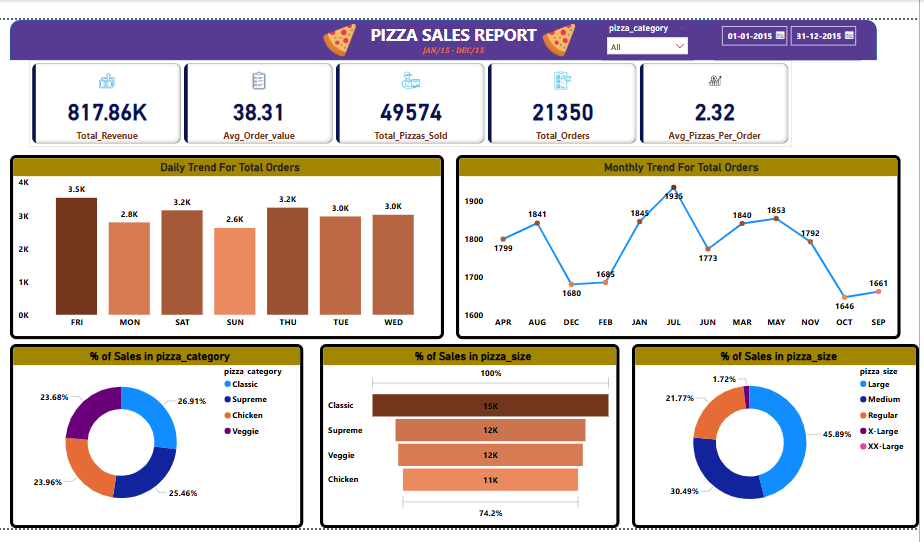

This screenshot's page, from the dashboard's own definition file:
{"tool":"powerbi","page":{"name":"Home Page","canvas":[1500,820],"ordinal":0},"visuals":[{"type":"cardVisual","fields":{"Data":["pizza_sales.Total_Revenue","pizza_sales.Avg_Order_value","pizza_sales.Total_Pizzas_Sold","pizza_sales.Total_Orders","pizza_sales.Avg_Pizzas_Per_Order"]},"box":[65,65,1230,140],"z":0},{"type":"shape","box":[33.3,0,1398.3,65],"z":1000},{"type":"textbox","box":[553.3,0,391.7,65],"z":2000},{"type":"textbox","box":[680,33.3,136.7,31.7],"z":3000},{"type":"image","box":[450,0,230,65],"z":4000},{"type":"image","box":[775,0,286.7,65],"z":5000},{"type":"columnChart","title":"Daily Trend For Total Orders","fields":{"Category":["pizza_sales.order_day"],"Y":["pizza_sales.Total_Orders"]},"box":[33.3,218.3,700,296.7],"z":6000},{"type":"lineChart","title":"Monthly Trend For Total Orders","fields":{"Category":["pizza_sales.order Month"],"Y":["pizza_sales.Total_Orders"]},"box":[753.3,218.3,716.7,296.7],"z":7000},{"type":"donutChart","title":"% of  Sales in pizza_category","fields":{"Category":["pizza_sales.pizza_category"],"Y":["pizza_sales.Total_Revenue"]},"box":[33.3,523.3,473.3,296.7],"z":8000},{"type":"donutChart","title":"% of  Sales in pizza_size","fields":{"Y":["pizza_sales.Total_Revenue"],"Category":["pizza_sales.pizza_size"]},"box":[1036.7,523.3,463.3,296.7],"z":9000},{"type":"funnel","title":"% of  Sales in pizza_size","fields":{"Category":["pizza_sales.pizza_category"],"Y":["pizza_sales.Total_Pizzas_Sold"]},"box":[533.3,523.3,483.3,296.7],"z":10000},{"type":"slicer","fields":{"Values":["pizza_sales.pizza_category"]},"box":[986.7,0,150,65],"z":11000},{"type":"slicer","fields":{"Values":["pizza_sales.order_date"]},"box":[1170,0,236.7,65],"z":11001}]}

Visuals, with their boxes on the page's 1500x820 design canvas (x1, y1, x2, y2). These are canvas units, not pixel positions in the 924x542 screenshot, which may show the page scaled, cropped or inside an application window:
cardVisual - pizza_sales.Total_Revenue x pizza_sales.Avg_Order_value: crop(65, 65, 1295, 205)
shape: crop(33, 0, 1432, 65)
textbox: crop(553, 0, 945, 65)
textbox: crop(680, 33, 817, 65)
image: crop(450, 0, 680, 65)
image: crop(775, 0, 1062, 65)
"Daily Trend For Total Orders" columnChart: crop(33, 218, 733, 515)
"Monthly Trend For Total Orders" lineChart: crop(753, 218, 1470, 515)
"% of  Sales in pizza_category" donutChart: crop(33, 523, 507, 820)
"% of  Sales in pizza_size" donutChart: crop(1037, 523, 1500, 820)
"% of  Sales in pizza_size" funnel: crop(533, 523, 1017, 820)
slicer - pizza_sales.pizza_category: crop(987, 0, 1137, 65)
slicer - pizza_sales.order_date: crop(1170, 0, 1407, 65)
